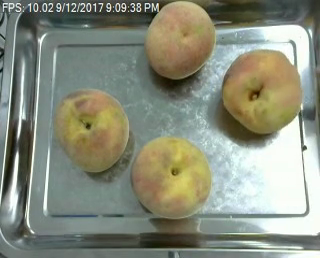Peach: (220, 48, 302, 134), (129, 135, 211, 218), (54, 89, 130, 172), (144, 0, 216, 80)
